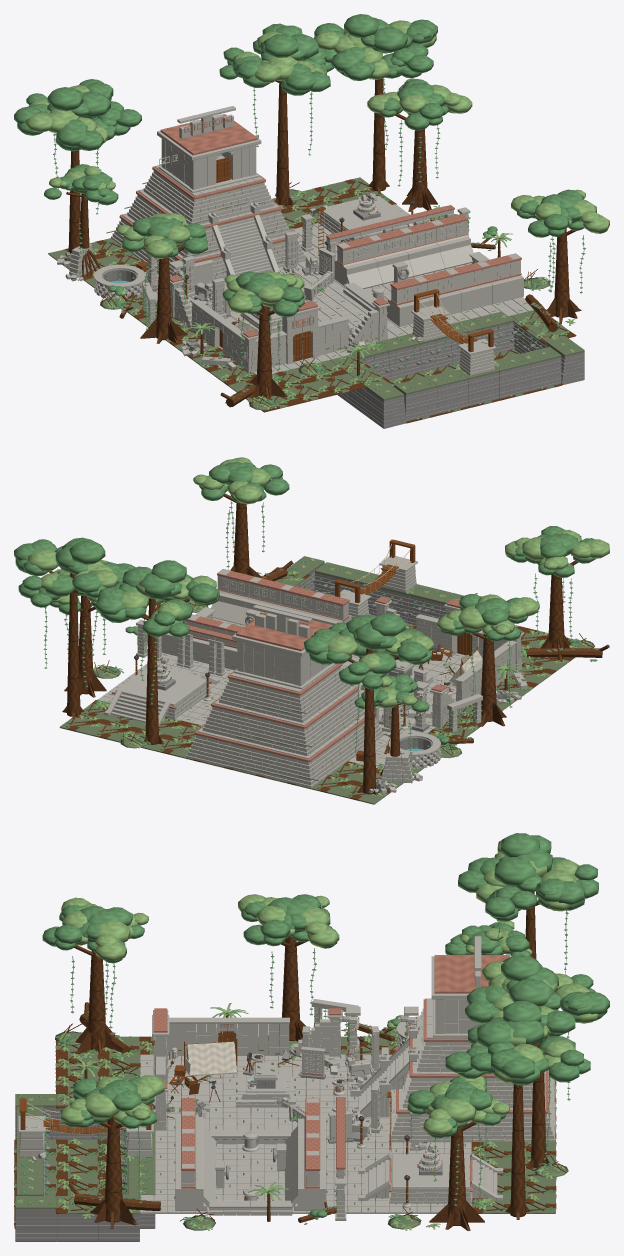
File: lost-city.glb
3 views of the same model, one above another, from view 1: azimuth 30°, elevation 25°; view 2: azimuth 150°, elevation 25°; view 3: azimuth 270°, elevation 25° (orthographic). The views are drawn at different scales.
Parts seen in each view (by area): view 1: 237-jungle-canopy-tree/1, 236-jungle-canopy-tree/1, 128-summit-shrine/0, 238-jungle-canopy-tree/1, 127-pyramid-upper-tier/0, 235-buttress-root-tree/2, 233-buttress-root-tree/2, 234-buttress-root-tree/2, 232-buttress-root-tree/2, 126-pyramid-middle-tier/0, 128-summit-shrine/2, 154-ball-court-sloped-wall/0 (+48 smaller); view 2: 125-pyramid-base-tier/0, 236-jungle-canopy-tree/1, 238-jungle-canopy-tree/1, 126-pyramid-middle-tier/0, 237-jungle-canopy-tree/1, 128-summit-shrine/0, 127-pyramid-upper-tier/0, 235-buttress-root-tree/2, 206-temple-platform-plinth/0, 234-buttress-root-tree/2, 232-buttress-root-tree/2, 232-buttress-root-tree/1 (+39 smaller); view 3: 237-jungle-canopy-tree/1, 236-jungle-canopy-tree/1, 238-jungle-canopy-tree/1, 125-pyramid-base-tier/0, 232-buttress-root-tree/2, 206-temple-platform-plinth/0, 234-buttress-root-tree/2, 235-buttress-root-tree/2, 233-buttress-root-tree/2, 235-buttress-root-tree/1, 128-summit-shrine/0, 233-buttress-root-tree/1 (+52 smaller).
Part boxes in pixels (<box>): 237-jungle-canopy-tree/1: <box>314,14,437,149</box>; 236-jungle-canopy-tree/1: <box>14,79,141,214</box>; 128-summit-shrine/0: <box>157,106,261,192</box>; 238-jungle-canopy-tree/1: <box>219,23,336,155</box>; 127-pyramid-upper-tier/0: <box>143,165,274,224</box>; 235-buttress-root-tree/2: <box>517,189,607,293</box>; 233-buttress-root-tree/2: <box>379,79,470,186</box>; 234-buttress-root-tree/2: <box>222,271,304,382</box>; 232-buttress-root-tree/2: <box>122,216,207,329</box>; 126-pyramid-middle-tier/0: <box>127,189,290,257</box>; 128-summit-shrine/2: <box>160,114,257,155</box>; 154-ball-court-sloped-wall/0: <box>334,242,382,288</box>; 125-pyramid-base-tier/0: <box>186,714,383,789</box>; 236-jungle-canopy-tree/1: <box>304,613,431,752</box>; 238-jungle-canopy-tree/1: <box>96,560,219,704</box>; 126-pyramid-middle-tier/0: <box>202,686,364,755</box>; 237-jungle-canopy-tree/1: <box>14,537,135,668</box>; 128-summit-shrine/0: <box>232,605,335,689</box>; 127-pyramid-upper-tier/0: <box>219,664,350,722</box>; 235-buttress-root-tree/2: <box>199,461,289,569</box>; 206-temple-platform-plinth/0: <box>114,667,211,719</box>; 234-buttress-root-tree/2: <box>506,526,595,645</box>; 232-buttress-root-tree/2: <box>439,594,527,707</box>; 232-buttress-root-tree/1: <box>437,594,539,715</box>; 237-jungle-canopy-tree/1: <box>445,1001,590,1165</box>; 236-jungle-canopy-tree/1: <box>458,833,598,974</box>; 238-jungle-canopy-tree/1: <box>465,955,609,1100</box>; 125-pyramid-base-tier/0: <box>389,1055,555,1143</box>; 232-buttress-root-tree/2: <box>241,894,337,1015</box>; 206-temple-platform-plinth/0: <box>389,1154,472,1204</box>; 234-buttress-root-tree/2: <box>42,905,144,1028</box>; 235-buttress-root-tree/2: <box>63,1077,156,1203</box>; 233-buttress-root-tree/2: <box>407,1076,506,1205</box>; 235-buttress-root-tree/1: <box>60,1075,164,1219</box>; 128-summit-shrine/0: <box>431,936,512,1037</box>; 233-buttress-root-tree/1: <box>423,1075,509,1229</box>.
Bounding box in the file's own units: 39.81 × 18.8 × 43.03.
12 materials, 9 textured.
